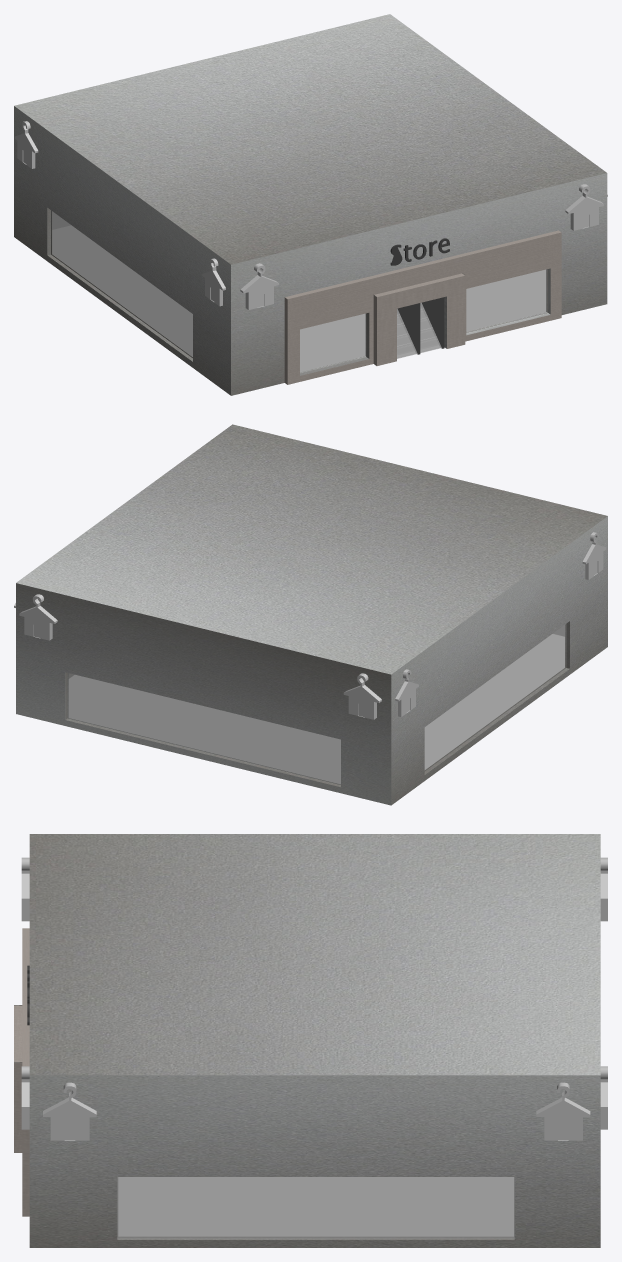
The model's file is LOJA.fbx.
3 renders of one model, top to bottom at view 1: azimuth 30°, elevation 25°; view 2: azimuth 150°, elevation 25°; view 3: azimuth 270°, elevation 25°, orthographic. The views are drawn at different scales.
Parts seen in each view (by area): view 1: LOJA, vidro2, pasted__pPlane12 (×2), porta15, LOJA1, pasted__pPlane21, porta14, pasted__pPlane22, typeMesh7, pCube122, pCube3; view 2: LOJA, vidro2, pasted__pPlane19, pasted__pPlane20, LOJA1, pasted__pPlane22, pasted__pPlane21; view 3: LOJA, vidro2, pasted__pPlane12 (×4).
Boxes of the visible parts, bbox=[...] form: LOJA: bbox=[14, 14, 607, 395]; vidro2: bbox=[52, 211, 546, 371]; pasted__pPlane12 (×2): bbox=[240, 184, 603, 309]; porta15: bbox=[418, 297, 444, 354]; LOJA1: bbox=[51, 210, 547, 372]; pasted__pPlane21: bbox=[14, 121, 38, 168]; porta14: bbox=[397, 303, 420, 354]; pasted__pPlane22: bbox=[202, 258, 225, 306]; typeMesh7: bbox=[390, 238, 449, 265]; pCube122: bbox=[420, 302, 441, 353]; pCube3: bbox=[397, 308, 417, 358]; LOJA: bbox=[16, 424, 607, 805]; vidro2: bbox=[68, 625, 564, 784]; pasted__pPlane19: bbox=[343, 673, 381, 719]; pasted__pPlane20: bbox=[19, 594, 57, 640]; LOJA1: bbox=[67, 624, 566, 784]; pasted__pPlane22: bbox=[582, 532, 606, 579]; pasted__pPlane21: bbox=[395, 669, 418, 717]; LOJA: bbox=[14, 834, 600, 1247]; vidro2: bbox=[117, 1177, 514, 1239]; pasted__pPlane12 (×4): bbox=[21, 857, 590, 1140].
Size of the model in its own units: 15.37 by 5.05 by 15.61.
